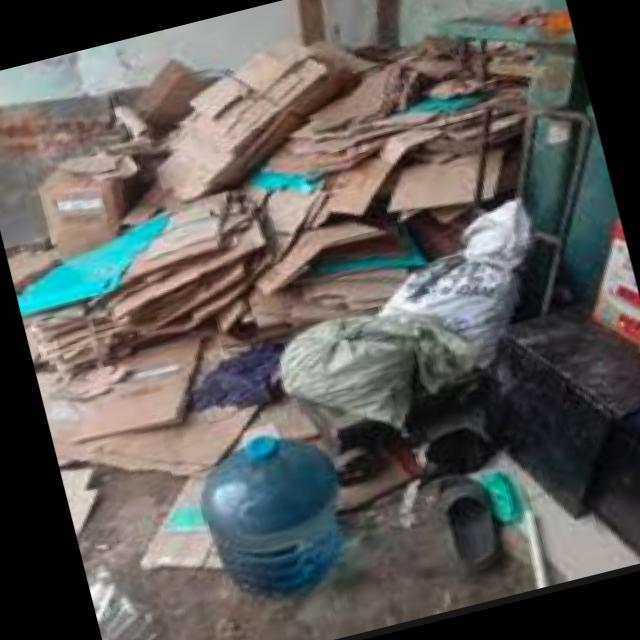Kardus: (23, 7, 506, 300)
